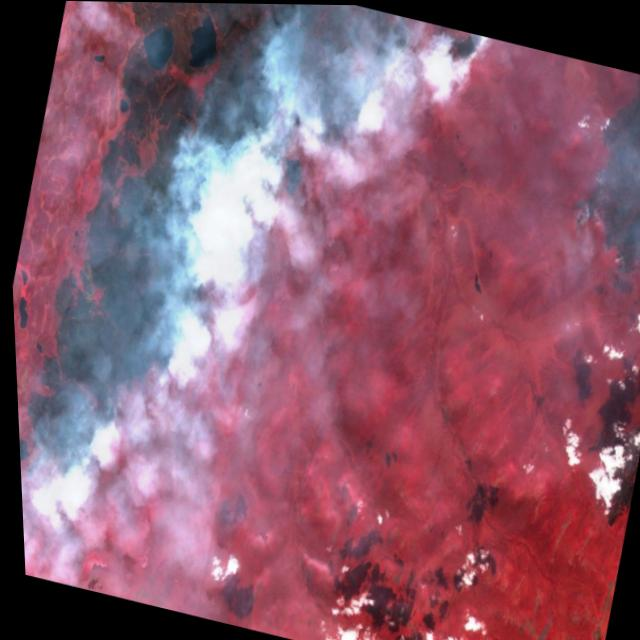fire: (0, 0, 443, 567), (425, 23, 500, 93)
